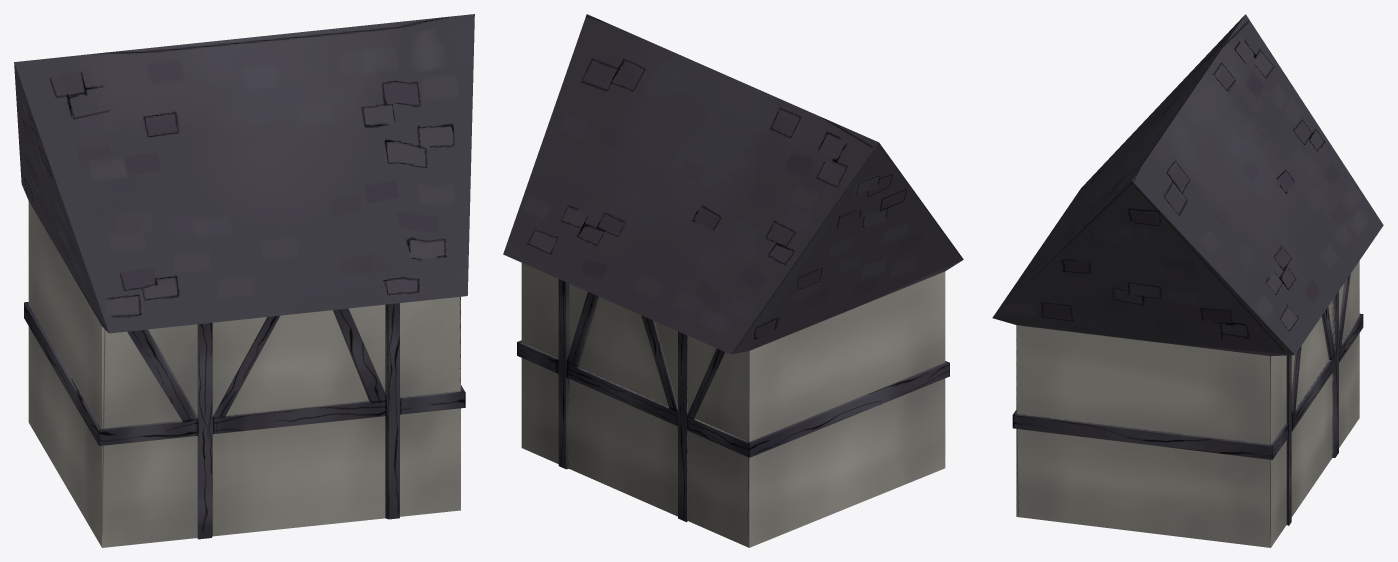
File: House2_1.fbx
3 views of the same model, side by side, from view 1: azimuth 30°, elevation 25°; view 2: azimuth 150°, elevation 25°; view 3: azimuth 270°, elevation 25° (orthographic). The views are drawn at different scales.
Parts seen in each view (by area): view 1: house02_proper; view 2: house02_proper; view 3: house02_proper.
Part boxes in pixels (x1,y1,x2,y2): house02_proper: (14, 14, 474, 547); house02_proper: (503, 14, 963, 547); house02_proper: (992, 14, 1383, 547).
Bounding box in the file's own units: 620 × 642 × 615.
